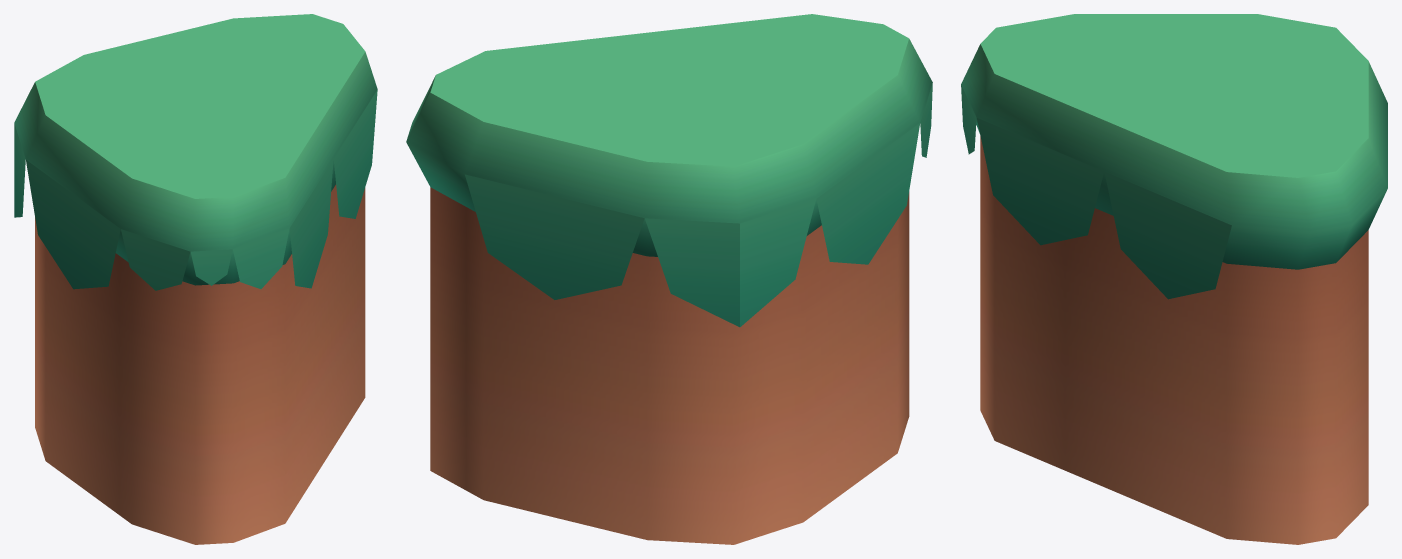
Rendered from kenney-platformer-block-grass-corner-overhang.glb.
3 views of the same model, side by side, from view 1: azimuth 30°, elevation 25°; view 2: azimuth 150°, elevation 25°; view 3: azimuth 270°, elevation 25° (orthographic). The views are drawn at different scales.
Visible parts, largest first — view 1: block-grass-corner-overhang; view 2: block-grass-corner-overhang; view 3: block-grass-corner-overhang.
Part boxes in pixels (x1,y1,x2,y2): block-grass-corner-overhang: (14,14,377,544); block-grass-corner-overhang: (406,14,932,544); block-grass-corner-overhang: (961,14,1387,544).
Size of the model in its own units: 1.05 by 1 by 1.05.
Materials: 1 (1 with a texture image).
